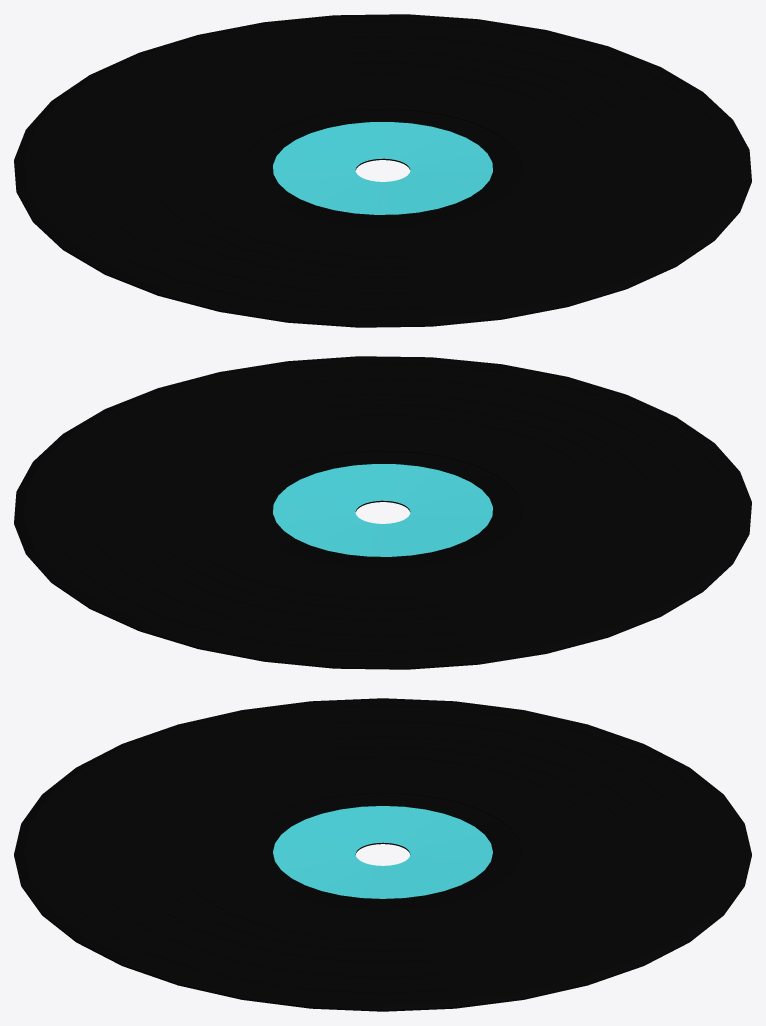
Rendered from Disk.fbx.
The picture shows the model from 3 angles, top to bottom: view 1: azimuth 30°, elevation 25°; view 2: azimuth 150°, elevation 25°; view 3: azimuth 270°, elevation 25°; orthographic projection.
Parts seen in each view (by area): view 1: Circle.004; view 2: Circle.004; view 3: Circle.004.
Part boxes in pixels (bbox=[...]): Circle.004: bbox=[14, 14, 751, 327]; Circle.004: bbox=[14, 356, 751, 669]; Circle.004: bbox=[14, 698, 751, 1011].
Bounding box in the file's own units: 205 × 2 × 205.
